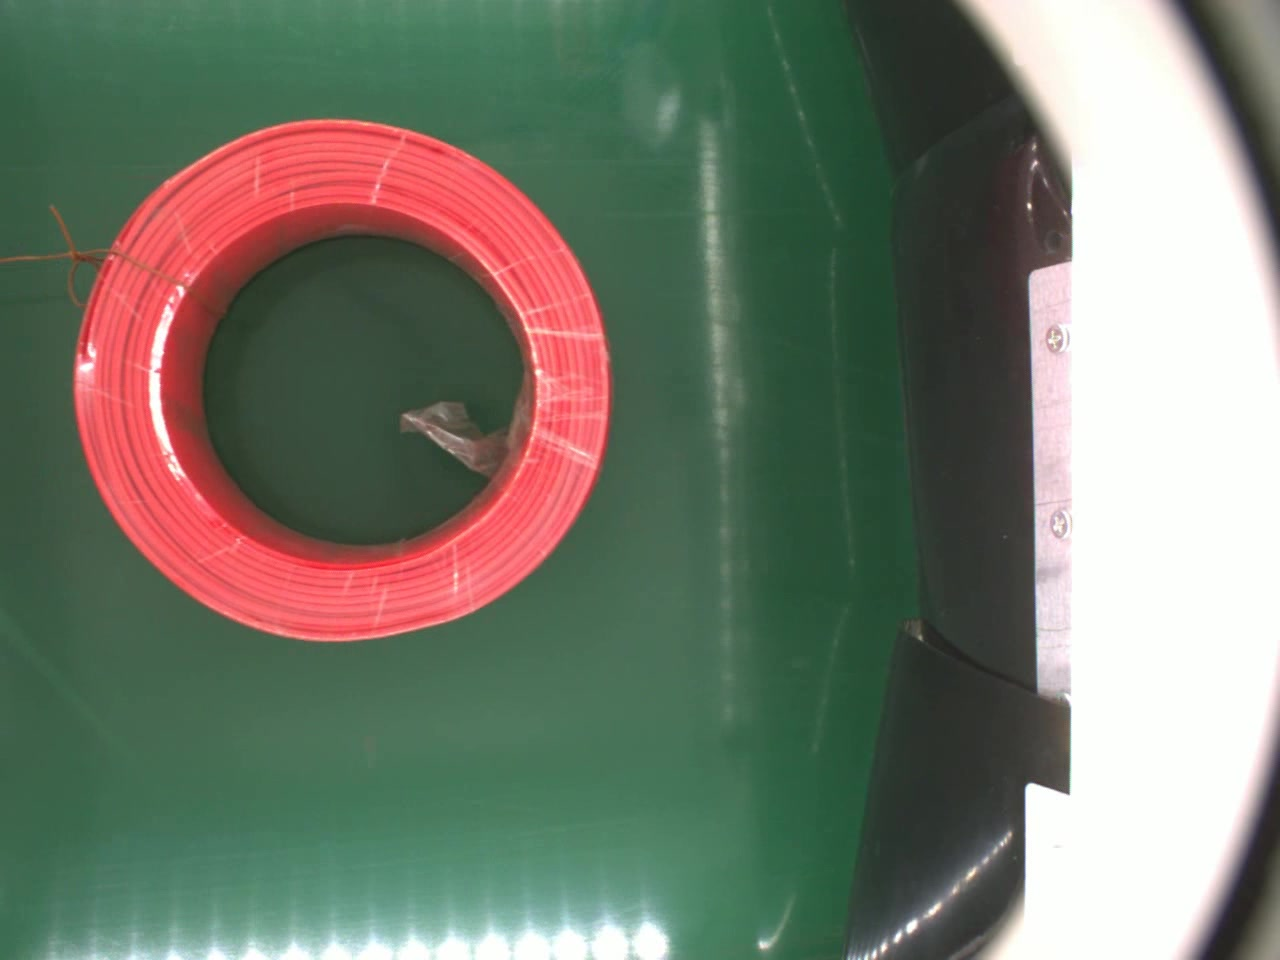red: (67, 114, 615, 646)
